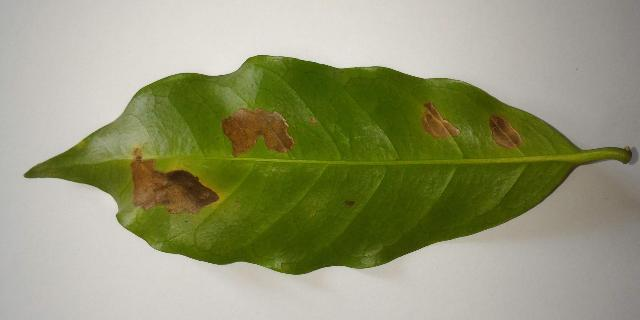cercospora: (130, 143, 222, 214), (221, 108, 295, 156), (421, 102, 461, 138), (488, 113, 523, 150), (310, 117, 316, 124)
